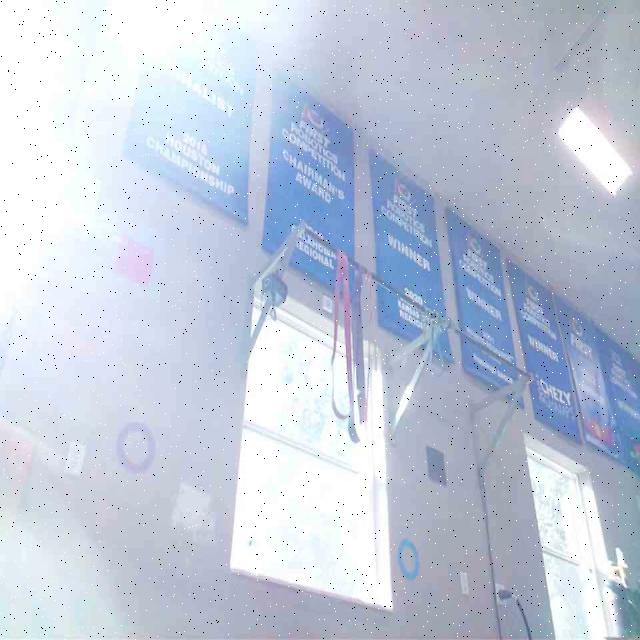ring_blue: (396, 536, 420, 579)
ring_purple: (116, 422, 156, 474)
square_black: (424, 444, 446, 482)
square_red: (113, 236, 154, 284)
